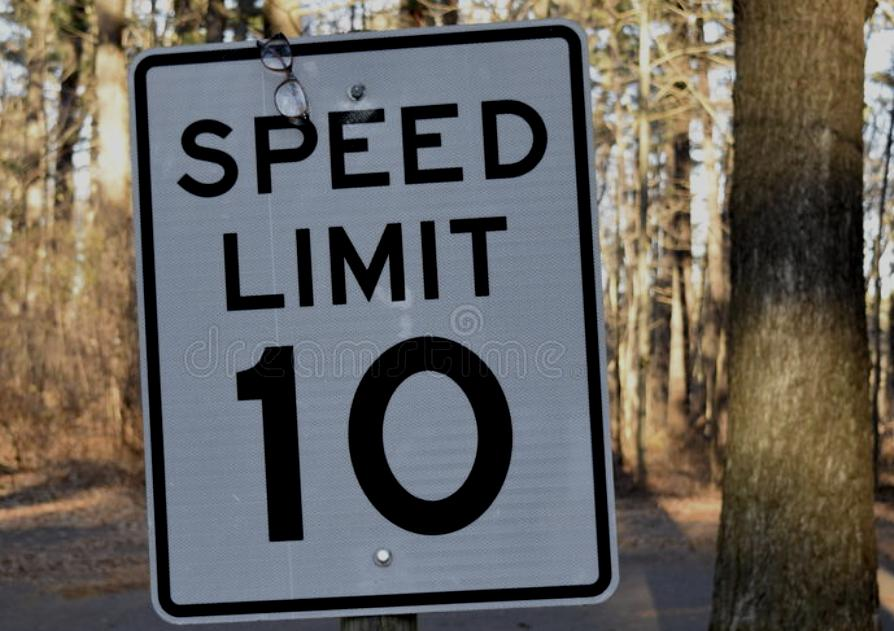10 MPH: (145, 63, 582, 581)
